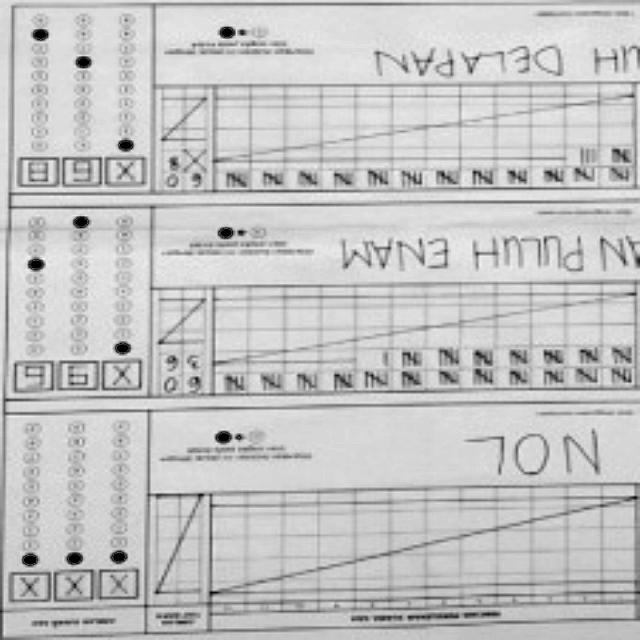Suara: (9, 567, 143, 605), (11, 358, 146, 395), (16, 153, 150, 190)
